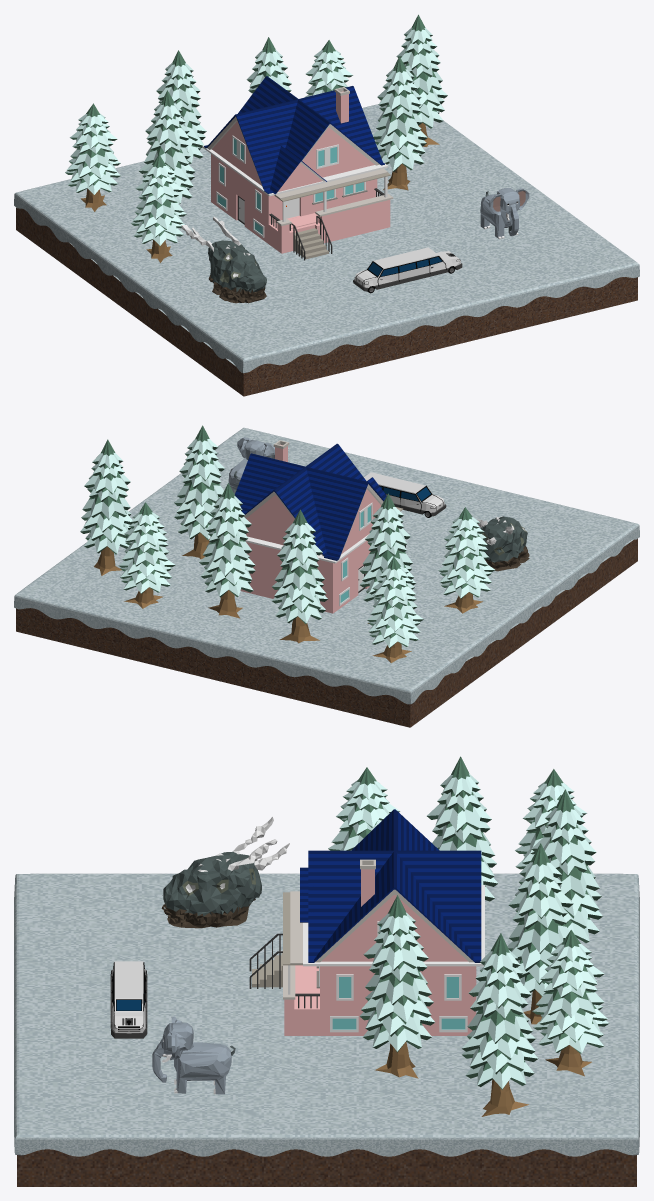
3 views of the same model, one above another, from view 1: azimuth 30°, elevation 25°; view 2: azimuth 150°, elevation 25°; view 3: azimuth 270°, elevation 25° (orthographic). The views are drawn at different scales.
Parts seen in each view (by area): view 1: Cube.003, Cube.313, OBJRANDOM_METEORITE, VEHICLES_LIMOUSINE, ANIMAL_ELEFANTE; view 2: Cube.003, Cube.313, OBJRANDOM_METEORITE, VEHICLES_LIMOUSINE, ANIMAL_ELEFANTE; view 3: Cube.003, Cube.313, OBJRANDOM_METEORITE, ANIMAL_ELEFANTE, VEHICLES_LIMOUSINE.
Boxes of the visible parts, x1=… form: Cube.003: x1=14, y1=14, x2=639, y2=396; Cube.313: x1=202, y1=76, x2=393, y2=260; OBJRANDOM_METEORITE: x1=181, y1=216, x2=266, y2=303; VEHICLES_LIMOUSINE: x1=353, y1=247, x2=462, y2=293; ANIMAL_ELEFANTE: x1=480, y1=188, x2=529, y2=239; Cube.003: x1=14, y1=425, x2=639, y2=727; Cube.313: x1=235, y1=440, x2=405, y2=613; OBJRANDOM_METEORITE: x1=477, y1=516, x2=529, y2=571; VEHICLES_LIMOUSINE: x1=364, y1=472, x2=446, y2=517; ANIMAL_ELEFANTE: x1=228, y1=437, x2=274, y2=494; Cube.003: x1=14, y1=756, x2=639, y2=1186; Cube.313: x1=249, y1=809, x2=484, y2=1035; OBJRANDOM_METEORITE: x1=161, y1=817, x2=289, y2=928; ANIMAL_ELEFANTE: x1=152, y1=1016, x2=235, y2=1094; VEHICLES_LIMOUSINE: x1=110, y1=961, x2=147, y2=1038.
Size of the model in its own units: 4040 by 1708 by 4040.
Materials: 35 (3 with a texture image).
